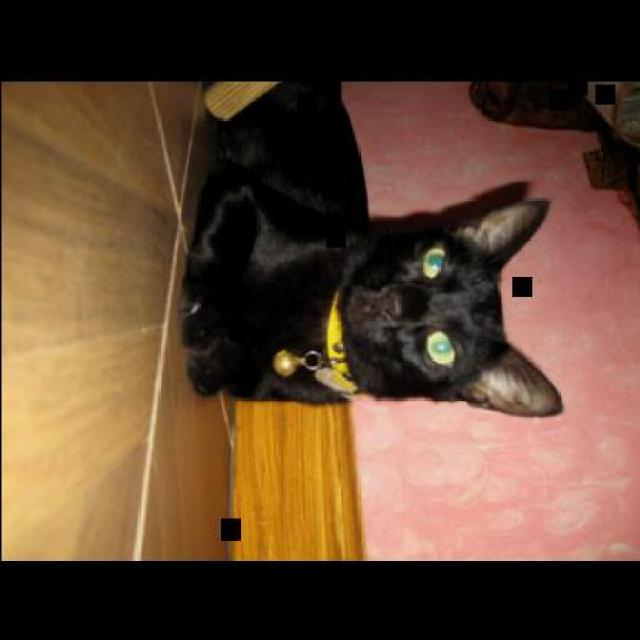unauthorized: (179, 75, 563, 417)
